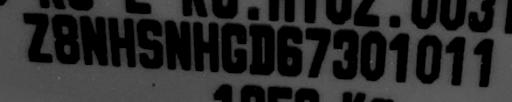letter: (20, 9, 54, 66), (50, 11, 82, 67), (78, 12, 110, 68), (105, 15, 137, 70), (162, 17, 194, 72), (135, 16, 165, 72), (190, 19, 220, 74), (218, 21, 248, 76), (414, 30, 444, 85), (246, 23, 276, 76), (330, 27, 360, 80), (359, 28, 389, 81), (276, 21, 304, 77), (303, 25, 331, 79), (386, 29, 412, 84), (443, 32, 469, 87), (471, 36, 495, 87)
